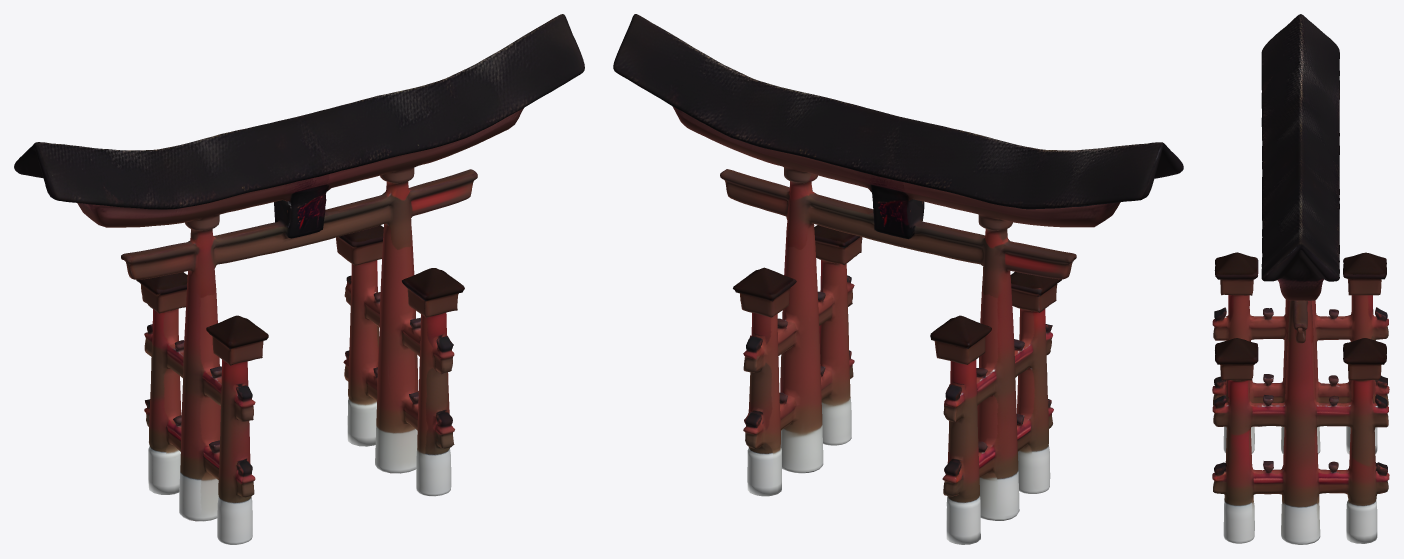
The model's file is base_basic_pbr.fbx.
3 renders of one model, left to right at view 1: azimuth 30°, elevation 25°; view 2: azimuth 150°, elevation 25°; view 3: azimuth 270°, elevation 25°, orthographic. The views are drawn at different scales.
Visible parts, largest first — view 1: model; view 2: model; view 3: model.
Part boxes in pixels (x1=…): model: x1=14, y1=14, x2=584, y2=544; model: x1=613, y1=14, x2=1183, y2=544; model: x1=1212, y1=14, x2=1389, y2=544.
Size of the model in its own units: 187 by 138 by 60.34.
Materials: 1 (1 with a texture image).
